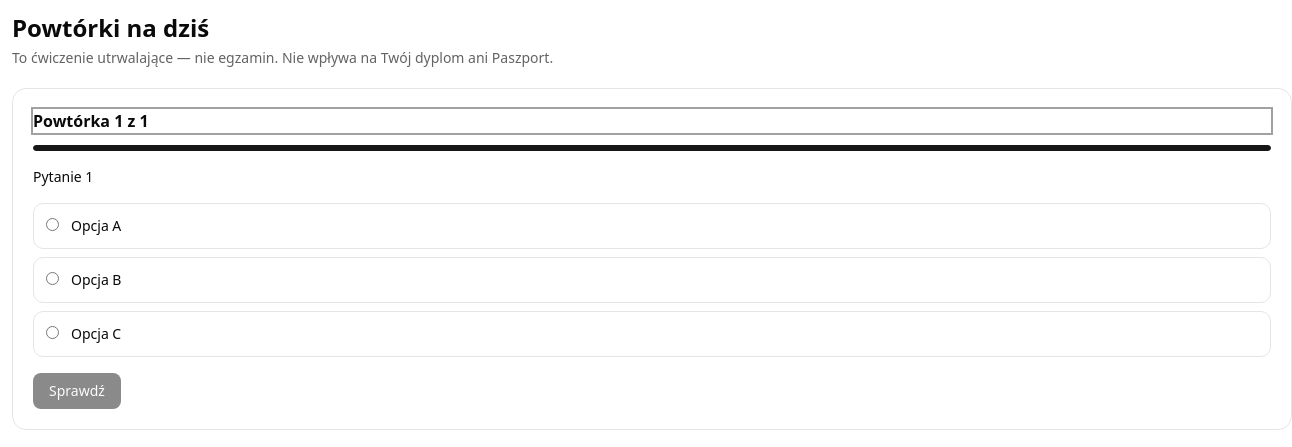
Scenario: ReviewRunner — mapowanie kodów błędów › 409 na OSTATNIM pytaniu → koniec sesji (nie błąd)
This screenshot has width=1292, height=447.
Expected: the heading "Powtórka 1 z 1" is shown, x1=33 y1=109 x2=1271 y2=133
Click the radio button labelled "Opcja A".
click(52, 224)  # box x1=46 y1=218 x2=59 y2=231
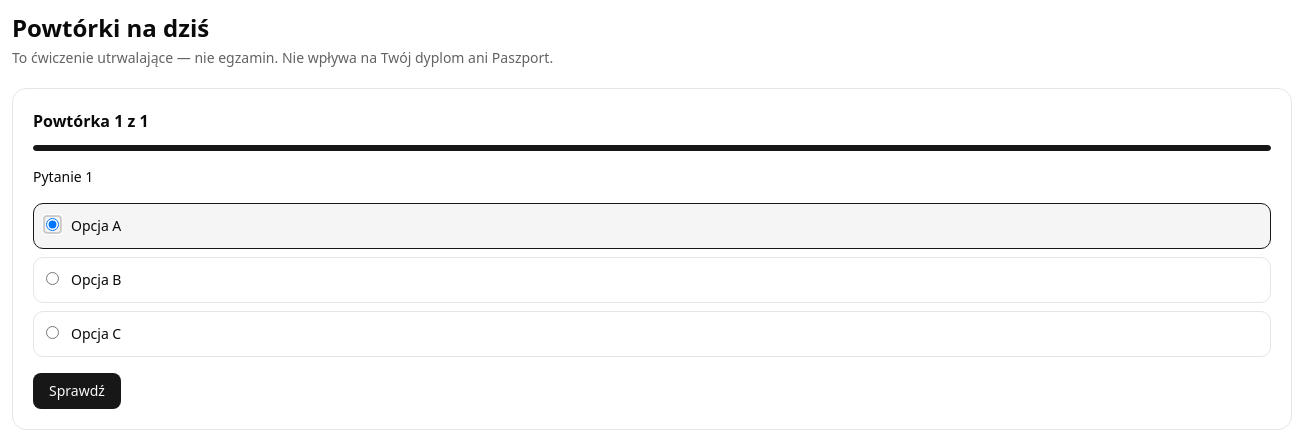
Click the button "Sprawdź".
click(77, 391)  # box x1=33 y1=373 x2=121 y2=409
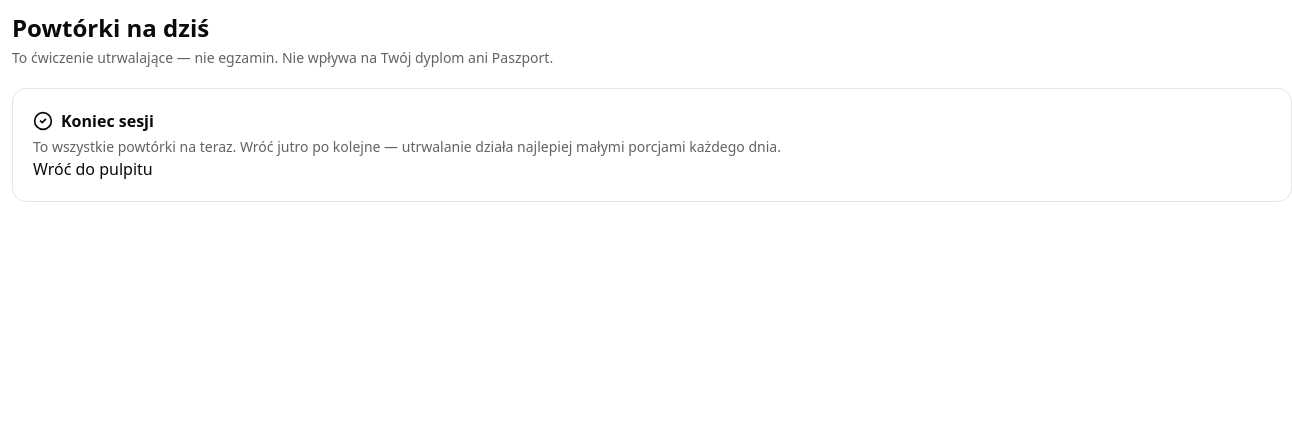
Now the heading "Koniec sesji" is shown, box x1=33 y1=110 x2=154 y2=132
